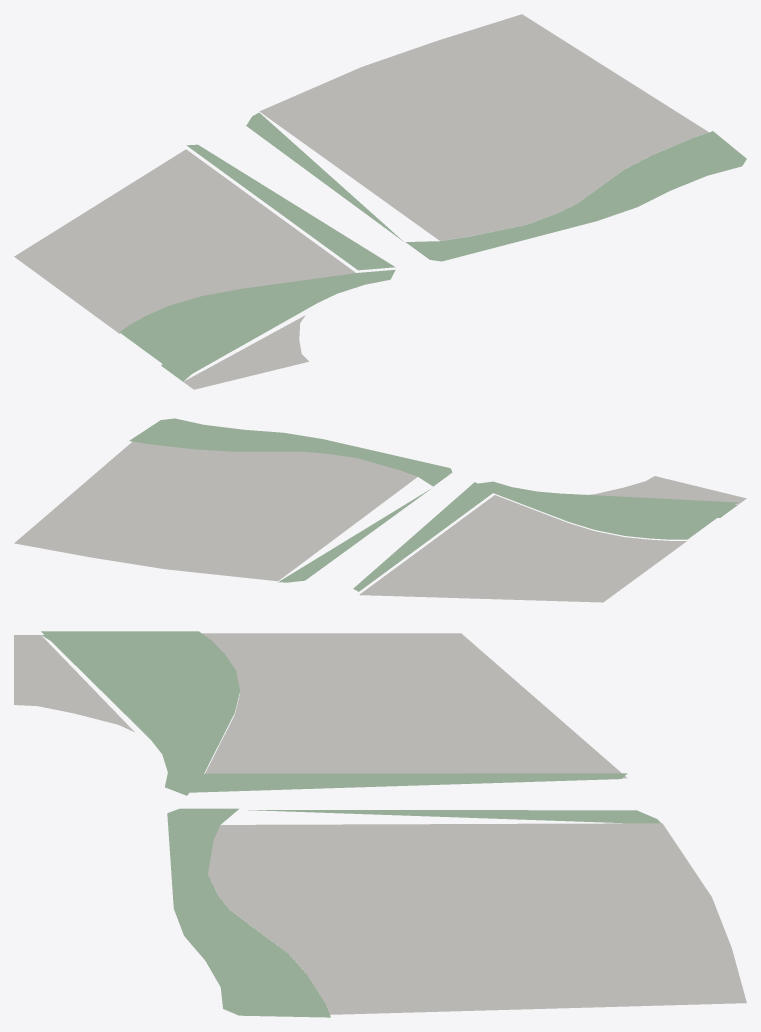
File: 124_65_mid.glb
3 views of the same model, one above another, from view 1: azimuth 30°, elevation 25°; view 2: azimuth 150°, elevation 25°; view 3: azimuth 270°, elevation 25° (orthographic). The views are drawn at different scales.
Size of the model in its own units: 489 by 5.54 by 386.
